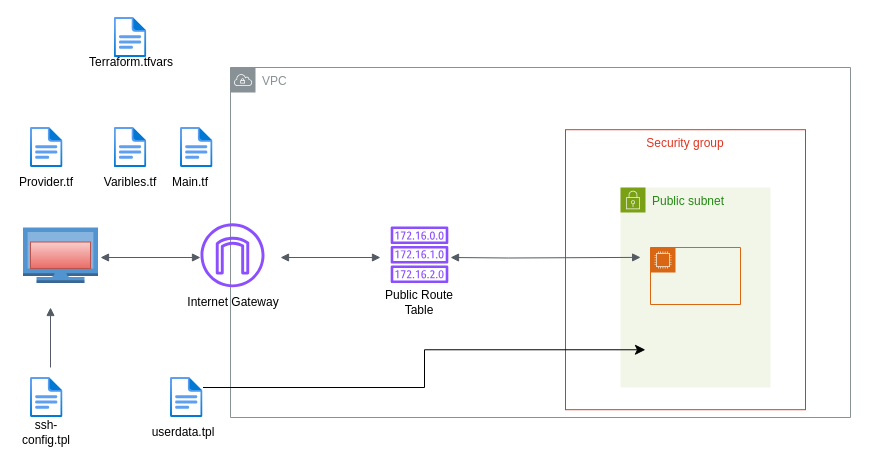
Some shapes in this 869 by 464 pixel diagram are drawn without their labels. Each missing label, with the centre of its shape:
"Dev Node" goes at point 695,275.
"Vs Code" goes at point 60,254.
